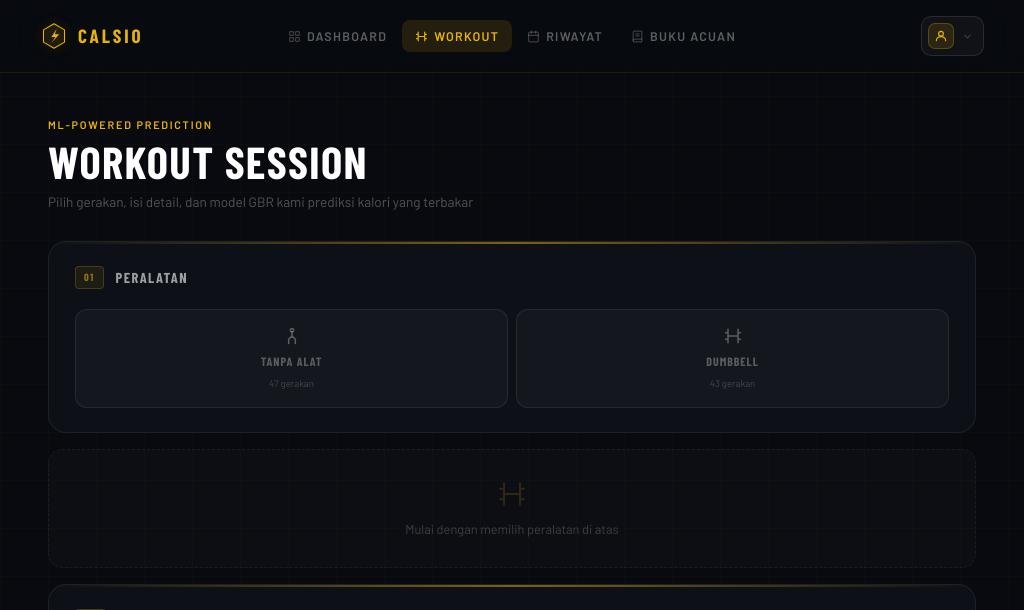
Scenario: Workout - Core Functions › pilih equipment Dumbbell muncul kategori otot
Click the button "Dumbbell 43 gerakan".
click(733, 358)  # box [516,309,949,407]
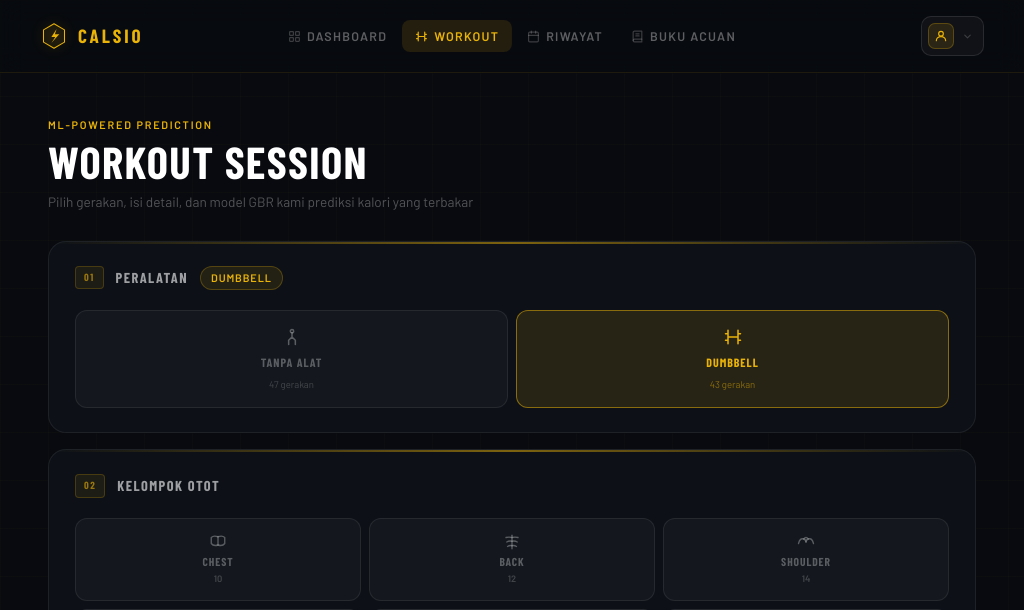
Check: the button "Chest 10" is shown, box [75,518,361,601]
